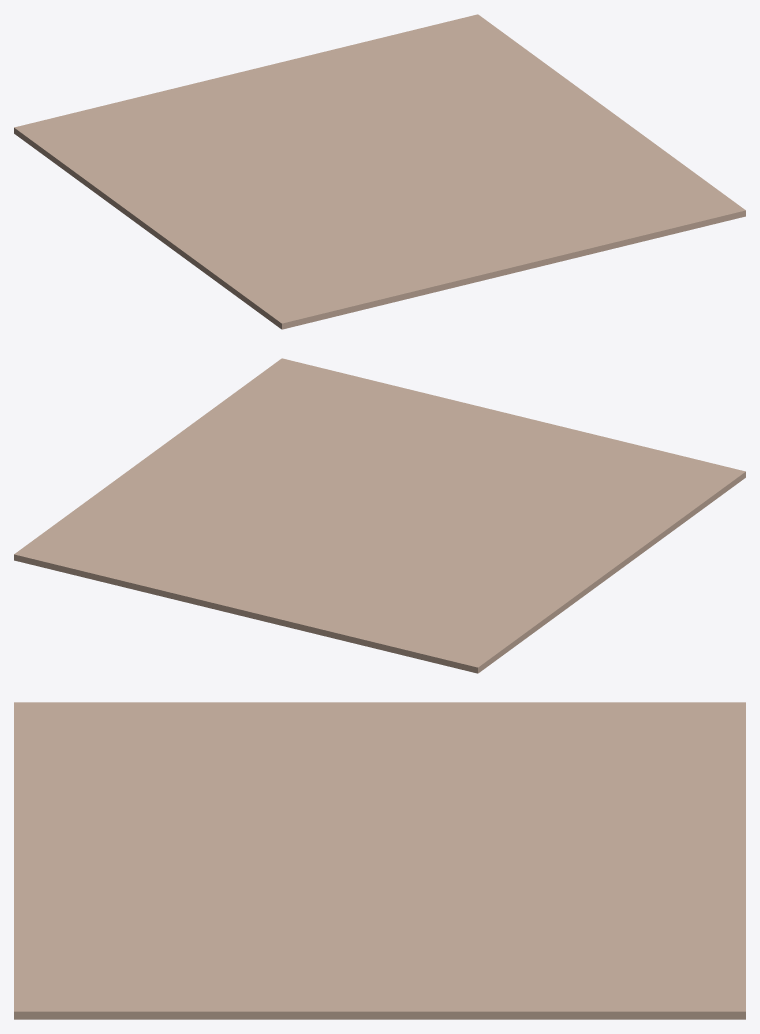
The model's file is TOWER_FLOOR0_colliders_006.fbx.
3 renders of one model, top to bottom at view 1: azimuth 30°, elevation 25°; view 2: azimuth 150°, elevation 25°; view 3: azimuth 270°, elevation 25°, orthographic. The views are drawn at different scales.
Parts seen in each view (by area): view 1: TOWER_FLOOR0_colliders.006; view 2: TOWER_FLOOR0_colliders.006; view 3: TOWER_FLOOR0_colliders.006.
Part boxes in pixels (x1,y1,x2,y2): TOWER_FLOOR0_colliders.006: (14, 14, 745, 329); TOWER_FLOOR0_colliders.006: (14, 358, 745, 673); TOWER_FLOOR0_colliders.006: (14, 702, 745, 1019).
Bounding box in the file's own units: 300 × 4.06 × 300.
